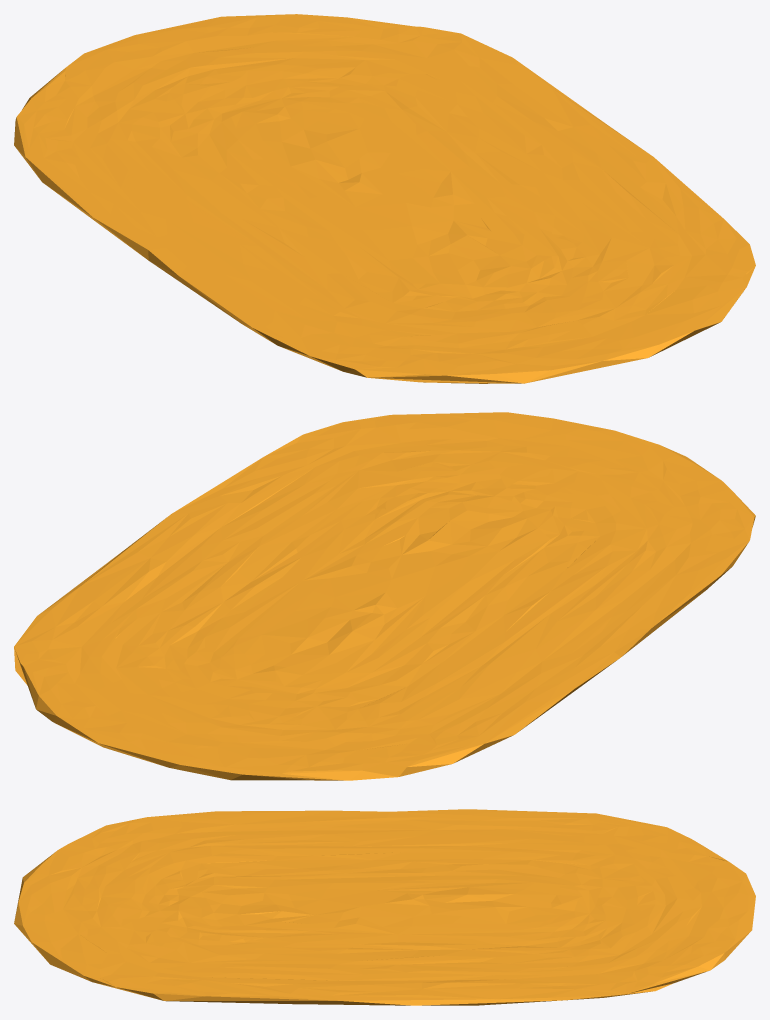
File: SM_Rug_Round.fbx
3 views of the same model, one above another, from view 1: azimuth 30°, elevation 25°; view 2: azimuth 150°, elevation 25°; view 3: azimuth 270°, elevation 25° (orthographic). The views are drawn at different scales.
Parts seen in each view (by area): view 1: SM_Rug_Round; view 2: SM_Rug_Round; view 3: SM_Rug_Round.
Boxes of the visible parts, x1,y1,x2,y2 form: SM_Rug_Round: (14,14,755,383); SM_Rug_Round: (14,412,755,780); SM_Rug_Round: (14,809,755,1005).
Bounding box in the file's own units: 2.15 × 0.064 × 3.48.
